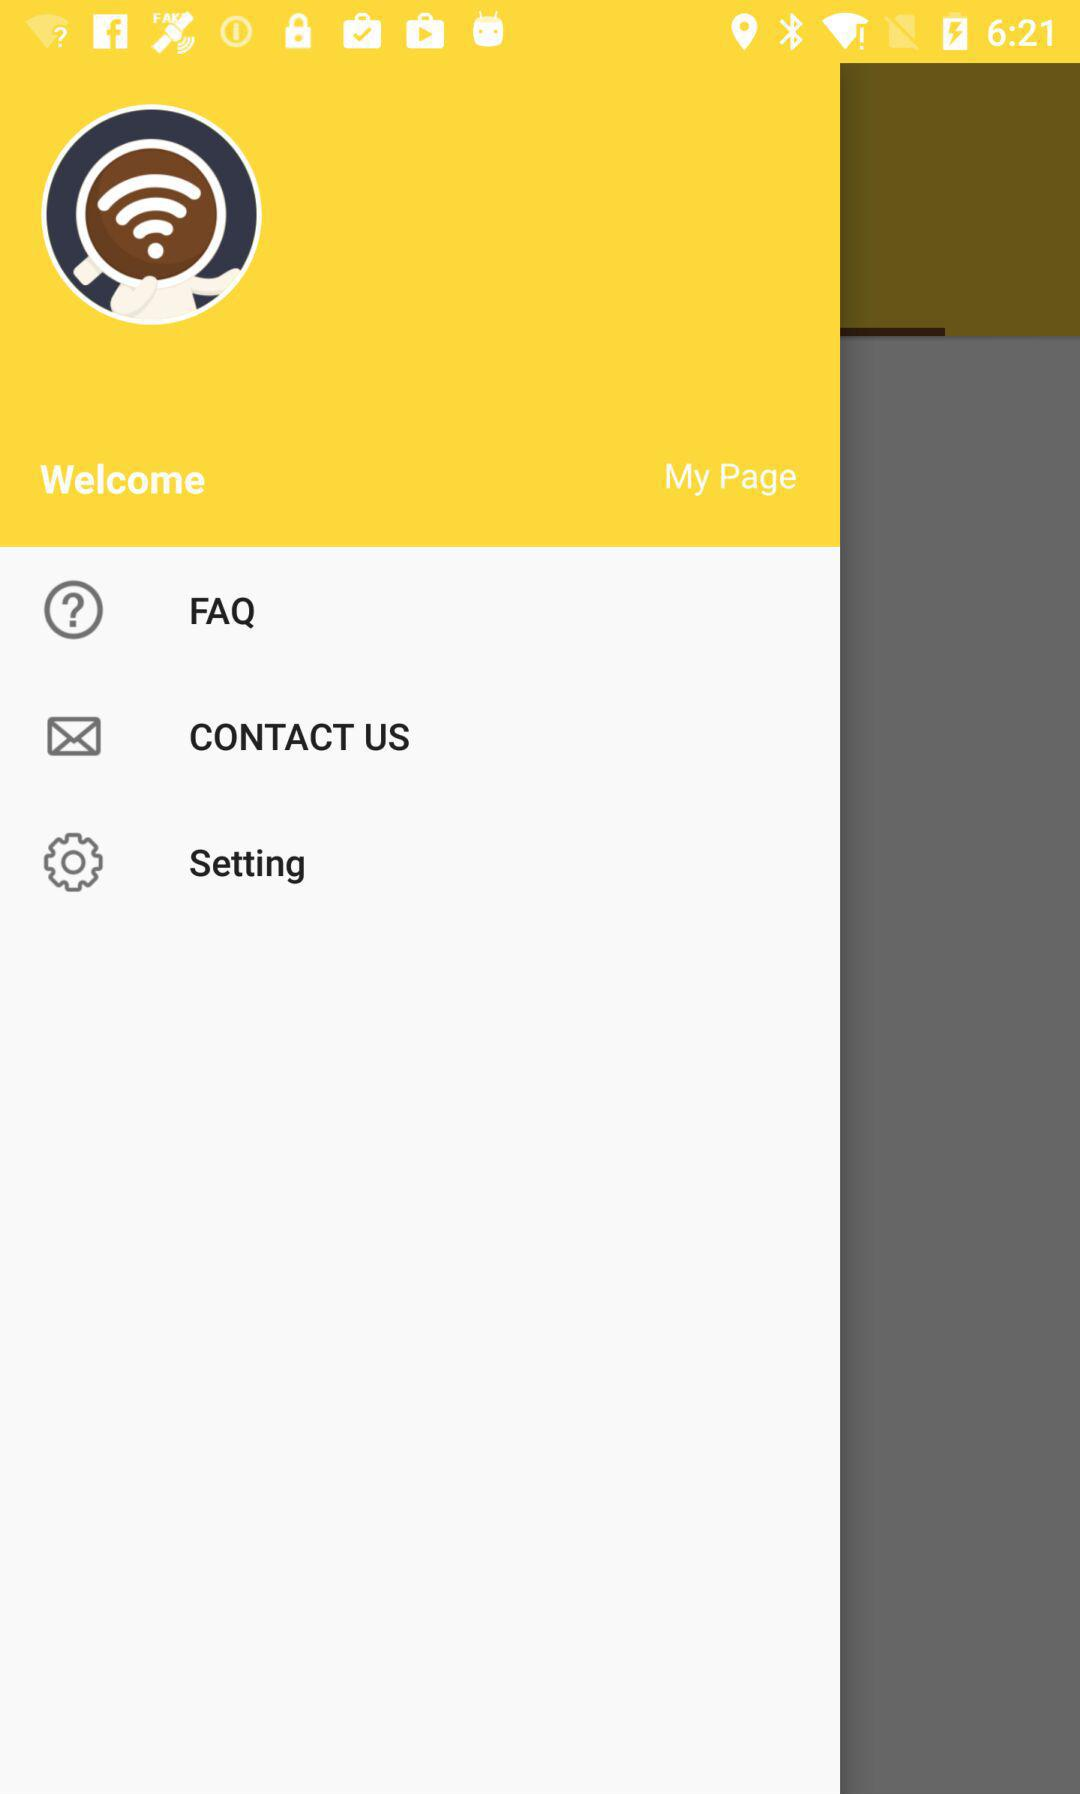Drawer: (1, 64, 840, 1794)
Icon: (44, 832, 105, 893), (44, 579, 105, 641), (47, 716, 102, 759)
Image: (41, 104, 264, 327)
Text: (190, 721, 411, 753), (38, 463, 208, 498), (664, 457, 796, 497), (190, 848, 306, 885), (191, 596, 256, 630)
UpperTaskBar: (1, 1, 1080, 64)
